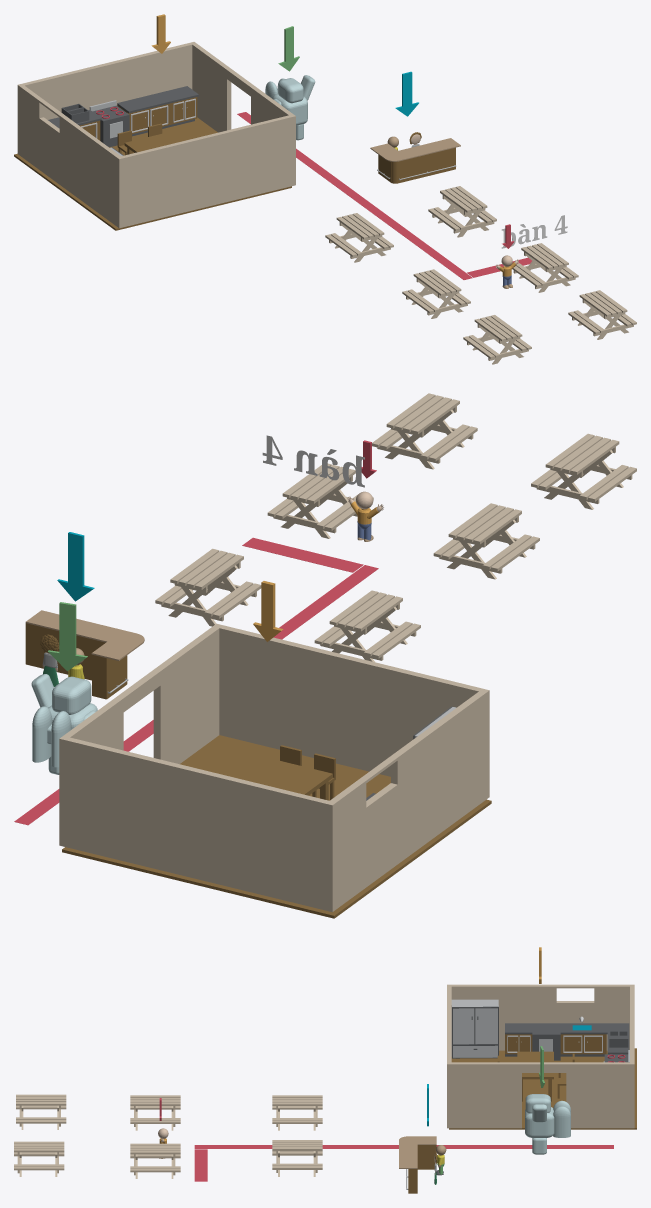
File: map4.glb
3 views of the same model, one above another, from view 1: azimuth 30°, elevation 25°; view 2: azimuth 150°, elevation 25°; view 3: azimuth 270°, elevation 25° (orthographic). The views are drawn at different scales.
Visible parts, largest first — view 1: Mesh_Mesh_head_geo.001_lambert2SG.001; view 2: Mesh_Mesh_head_geo.001_lambert2SG.001; view 3: Mesh_Mesh_head_geo.001_lambert2SG.001.
Part boxes in pixels (left/top/right/bottom): Mesh_Mesh_head_geo.001_lambert2SG.001: left=14, top=14, right=636, bottom=364; Mesh_Mesh_head_geo.001_lambert2SG.001: left=14, top=393, right=636, bottom=918; Mesh_Mesh_head_geo.001_lambert2SG.001: left=14, top=947, right=636, bottom=1193.
Size of the model in its own units: 0.3613 by 0.169 by 0.6629.
